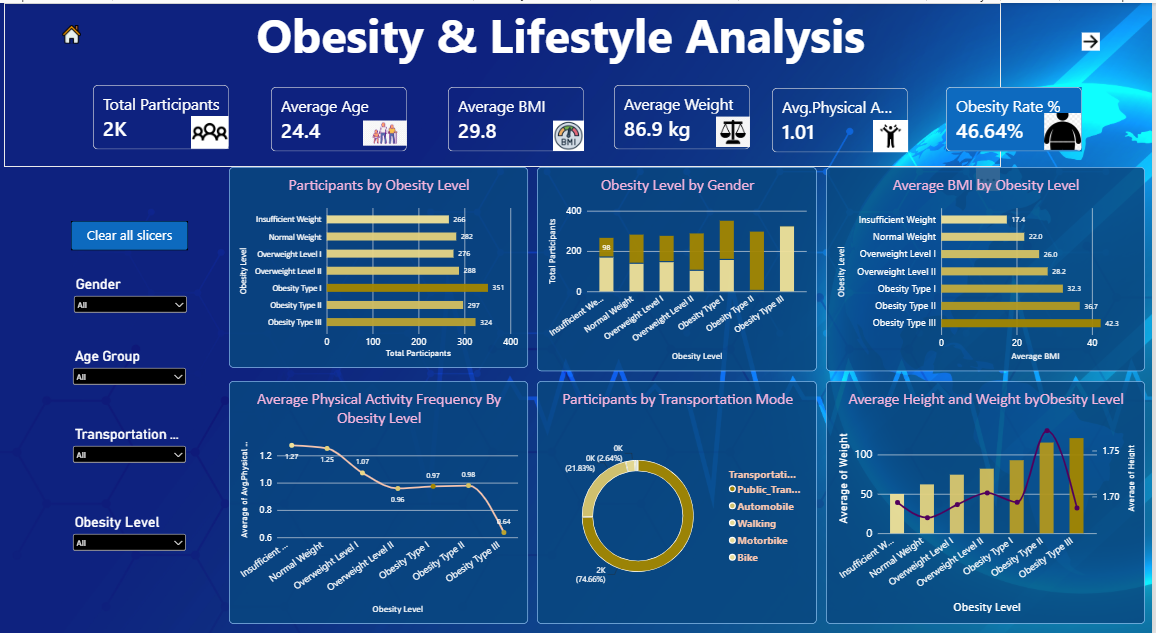

Layout of this report page (visuals, bound fields, positions):
{"tool":"powerbi","page":{"name":"Overview","canvas":[1973,1080],"ordinal":1},"visuals":[{"type":"textbox","box":[9.6,0,1704.1,279.5],"z":0},{"type":"cardVisual","fields":{"Data":["Obesity Data.Total Participants"]},"box":[162.3,140.1,232,110],"z":1000},{"type":"cardVisual","fields":{"Data":["Obesity Data.Average Age"]},"box":[466.5,143.5,232,110],"z":2000},{"type":"cardVisual","fields":{"Data":["Obesity Data.Average BMI"]},"box":[769,143.5,232,110],"z":3000},{"type":"cardVisual","fields":{"Data":["Obesity Data.Average Weight KPI"]},"box":[1052.7,140.1,232.4,110],"z":4000},{"type":"cardVisual","fields":{"Data":["Avg(Obesity Data.Physical Activity Frequency)"]},"box":[1322.7,145.3,232,110],"z":5000},{"type":"cardVisual","fields":{"Data":["Obesity Data.Obesity Rate %"]},"box":[1620,143.5,232,110],"z":6000},{"type":"image","box":[329.8,193.1,64.9,56.4],"z":7000},{"type":"image","box":[623.7,194.8,75.2,54.7],"z":8000},{"type":"image","box":[948.4,199.9,53,54],"z":9000},{"type":"image","box":[1227,193.1,58.1,54.7],"z":10000},{"type":"image","box":[1495.3,199.9,59.8,54.7],"z":11000},{"type":"image","box":[1785.8,188,66.6,63.2],"z":12000},{"type":"clusteredBarChart","title":"Participants by Obesity Level","fields":{"Category":["Obesity Data.OBESITY LEVEL"],"Y":["Obesity Data.Total Participants"]},"box":[394.7,280.3,510.9,343.5],"z":13000},{"type":"columnChart","title":"Obesity Level by Gender","fields":{"Category":["Obesity Data.OBESITY LEVEL"],"Y":["Obesity Data.Total Participants"],"Series":["Obesity Data.Gender"]},"box":[921.1,280.3,478.5,348.6],"z":14000},{"type":"clusteredBarChart","title":"Average BMI by Obesity Level","fields":{"Category":["Obesity Data.OBESITY LEVEL"],"Y":["Obesity Data.Average BMI"]},"box":[1414.9,280.3,545.1,348.6],"z":15000},{"type":"lineChart","title":"Average Physical Activity Frequency By  Obesity Level","fields":{"Category":["Obesity Data.OBESITY LEVEL"],"Y":["Avg(Obesity Data.Physical Activity Frequency)"]},"box":[394.7,645.9,510.9,415.3],"z":16000},{"type":"lineClusteredColumnComboChart","title":"Average Height and Weight byObesity Level","fields":{"Category":["Obesity Data.OBESITY LEVEL"],"Y":["Avg(Obesity Data.Weight)"],"Y2":["Avg(Obesity Data.Height)"]},"box":[1414.9,645.9,545.1,415.3],"z":17000},{"type":"donutChart","title":"Participants by Transportation Mode","fields":{"Category":["Obesity Data.Transportation Mode"],"Y":["Obesity Data.Total Participants"]},"box":[921.1,645.9,478.5,415.3],"z":18000},{"type":"slicer","fields":{"Values":["Obesity Data.Gender"]},"box":[124.7,466.5,203.4,75.2],"z":19000},{"type":"slicer","fields":{"Values":["Obesity Data.Age Group"]},"box":[123,589.6,203.4,76.9],"z":20000},{"type":"slicer","fields":{"Values":["Obesity Data.Transportation Mode"]},"box":[123,722.8,203.4,80.3],"z":21000},{"type":"slicer","fields":{"Values":["Obesity Data.OBESITY LEVEL"]},"box":[123,873.2,203.4,75.2],"z":22000},{"type":"actionButton","box":[124.7,372.5,200,50],"z":23000},{"type":"actionButton","box":[1808,32.5,119.6,66.6],"z":24000},{"type":"actionButton","box":[59.8,25.6,131.6,56.4],"z":25000}]}

Visuals, with their boxes in screenshot pixels (x1, y1, x2, y2), scaled from the page's 1973x1080 canvas onto the 1156x633 screenshot:
textbox: (x1=6, y1=0, x2=1004, y2=164)
cardVisual - Obesity Data.Total Participants: (x1=95, y1=82, x2=231, y2=147)
cardVisual - Obesity Data.Average Age: (x1=273, y1=84, x2=409, y2=149)
cardVisual - Obesity Data.Average BMI: (x1=451, y1=84, x2=586, y2=149)
cardVisual - Obesity Data.Average Weight KPI: (x1=617, y1=82, x2=753, y2=147)
cardVisual - Avg(Obesity Data.Physical Activity Frequency): (x1=775, y1=85, x2=911, y2=150)
cardVisual - Obesity Data.Obesity Rate %: (x1=949, y1=84, x2=1085, y2=149)
image: (x1=193, y1=113, x2=231, y2=146)
image: (x1=365, y1=114, x2=409, y2=146)
image: (x1=556, y1=117, x2=587, y2=149)
image: (x1=719, y1=113, x2=753, y2=145)
image: (x1=876, y1=117, x2=911, y2=149)
image: (x1=1046, y1=110, x2=1085, y2=147)
"Participants by Obesity Level" clusteredBarChart: (x1=231, y1=164, x2=531, y2=366)
"Obesity Level by Gender" columnChart: (x1=540, y1=164, x2=820, y2=369)
"Average BMI by Obesity Level" clusteredBarChart: (x1=829, y1=164, x2=1148, y2=369)
"Average Physical Activity Frequency By  Obesity Level" lineChart: (x1=231, y1=379, x2=531, y2=622)
"Average Height and Weight byObesity Level" lineClusteredColumnComboChart: (x1=829, y1=379, x2=1148, y2=622)
"Participants by Transportation Mode" donutChart: (x1=540, y1=379, x2=820, y2=622)
slicer - Obesity Data.Gender: (x1=73, y1=273, x2=192, y2=317)
slicer - Obesity Data.Age Group: (x1=72, y1=346, x2=191, y2=391)
slicer - Obesity Data.Transportation Mode: (x1=72, y1=424, x2=191, y2=471)
slicer - Obesity Data.OBESITY LEVEL: (x1=72, y1=512, x2=191, y2=556)
actionButton: (x1=73, y1=218, x2=190, y2=248)
actionButton: (x1=1059, y1=19, x2=1129, y2=58)
actionButton: (x1=35, y1=15, x2=112, y2=48)
